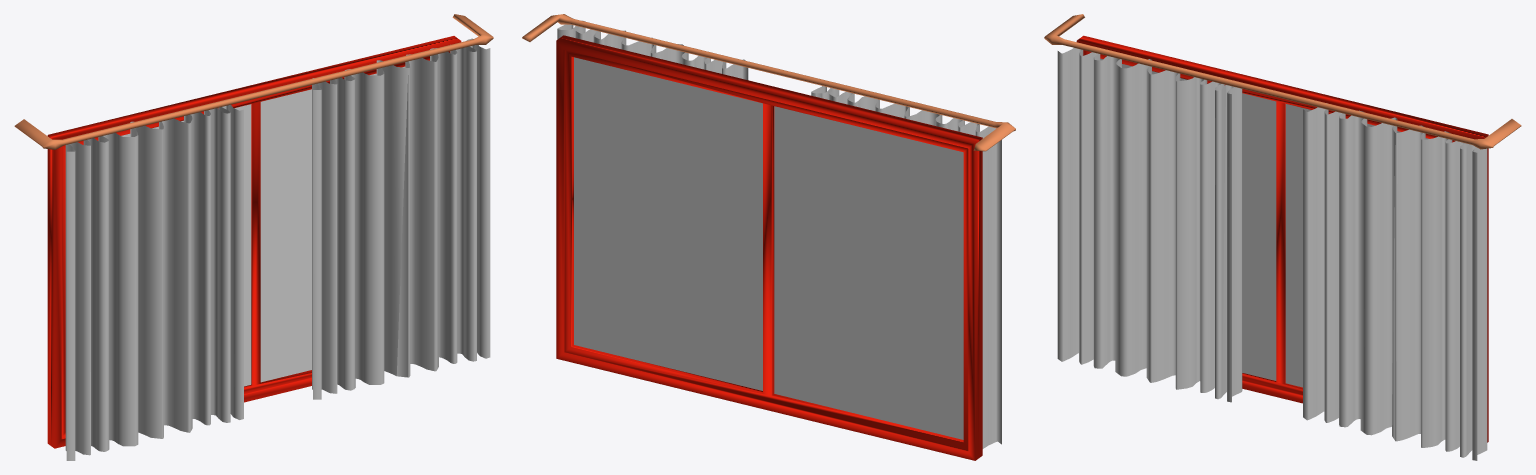
Rendered from Window.fbx.
The picture shows the model from 3 angles, left to right: view 1: azimuth 30°, elevation 25°; view 2: azimuth 150°, elevation 25°; view 3: azimuth 330°, elevation 25°; orthographic projection. The views are drawn at different scales.
Visible parts, largest first — view 1: Window_Curtains1_30$QprlaRUJuL2MmDnh85X, Series_SC7650_3_4_Hour_Fire_Rated_Steel_Self_Closing_Single_; view 2: Series_SC7650_3_4_Hour_Fire_Rated_Steel_Self_Closing_Single_, Window_Curtains1_30$QprlaRUJuL2MmDnh85X; view 3: Window_Curtains1_30$QprlaRUJuL2MmDnh85X, Series_SC7650_3_4_Hour_Fire_Rated_Steel_Self_Closing_Single_.
Part boxes in pixels (x1=…): Window_Curtains1_30$QprlaRUJuL2MmDnh85X: x1=14, y1=14, x2=493, y2=460; Series_SC7650_3_4_Hour_Fire_Rated_Steel_Self_Closing_Single_: x1=47, y1=36, x2=461, y2=448; Series_SC7650_3_4_Hour_Fire_Rated_Steel_Self_Closing_Single_: x1=556, y1=35, x2=982, y2=460; Window_Curtains1_30$QprlaRUJuL2MmDnh85X: x1=522, y1=14, x2=1015, y2=448; Window_Curtains1_30$QprlaRUJuL2MmDnh85X: x1=1044, y1=14, x2=1521, y2=460; Series_SC7650_3_4_Hour_Fire_Rated_Steel_Self_Closing_Single_: x1=1076, y1=35, x2=1488, y2=442.
Size of the model in its own units: 310 by 210 by 45.7.
